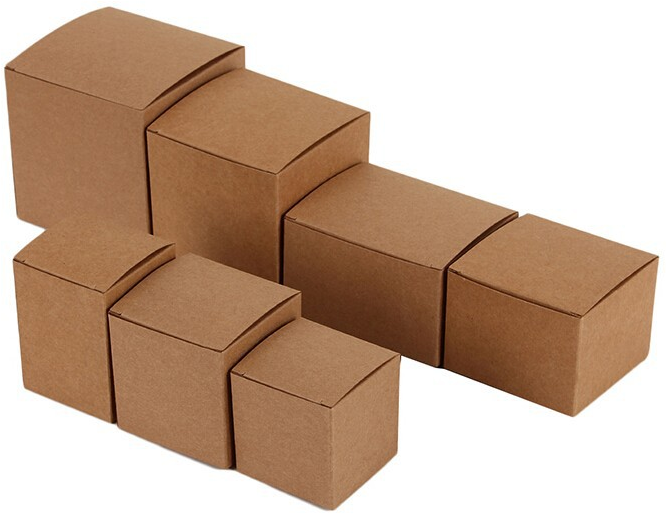Rec_Paper: (1, 7, 652, 509), (225, 319, 400, 513)
